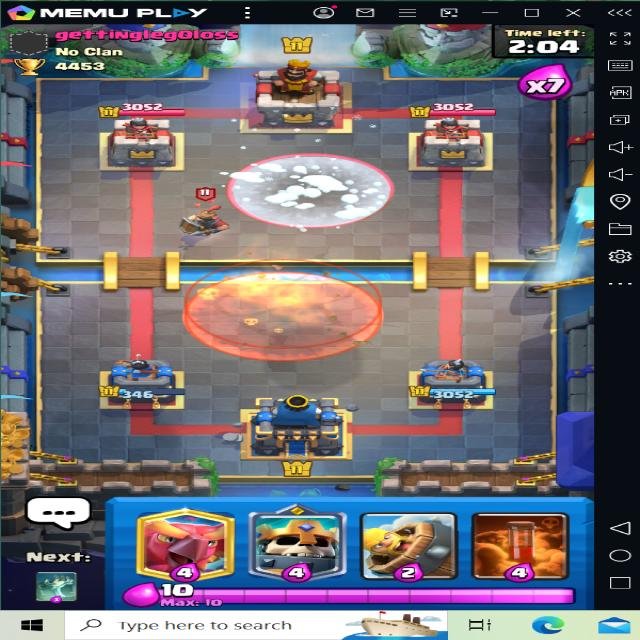Earthquake: (192, 258, 385, 342)
Freeze: (231, 144, 397, 227)
Poison: (196, 264, 379, 363)
Royalrecruits: (184, 190, 237, 240)
